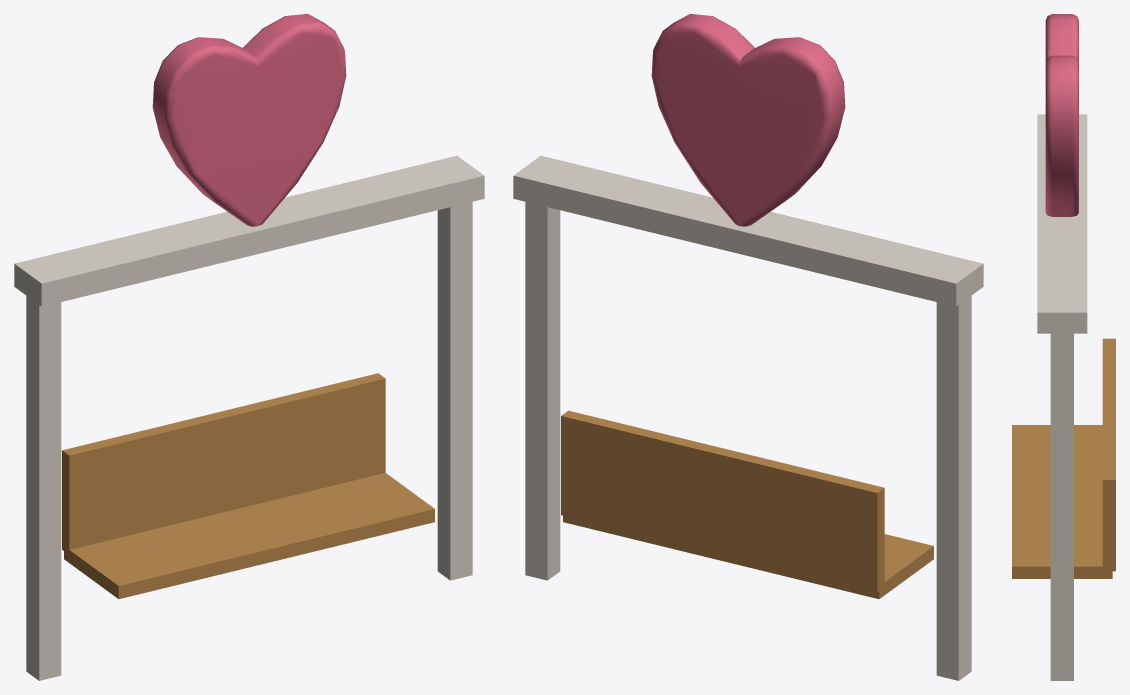
Rendered from heart_arbor.glb.
The picture shows the model from 3 angles, left to right: view 1: azimuth 30°, elevation 25°; view 2: azimuth 150°, elevation 25°; view 3: azimuth 270°, elevation 25°; orthographic projection. The views are drawn at different scales.
Visible parts, largest first — view 1: decor-heart_arbor; view 2: decor-heart_arbor; view 3: decor-heart_arbor.
Boxes of the visible parts, x1,y1,x2,y2 form: decor-heart_arbor: (14, 14, 484, 680); decor-heart_arbor: (513, 14, 983, 680); decor-heart_arbor: (1012, 14, 1115, 680).
Size of the model in its own units: 2.8 by 3.58 by 0.6201.
